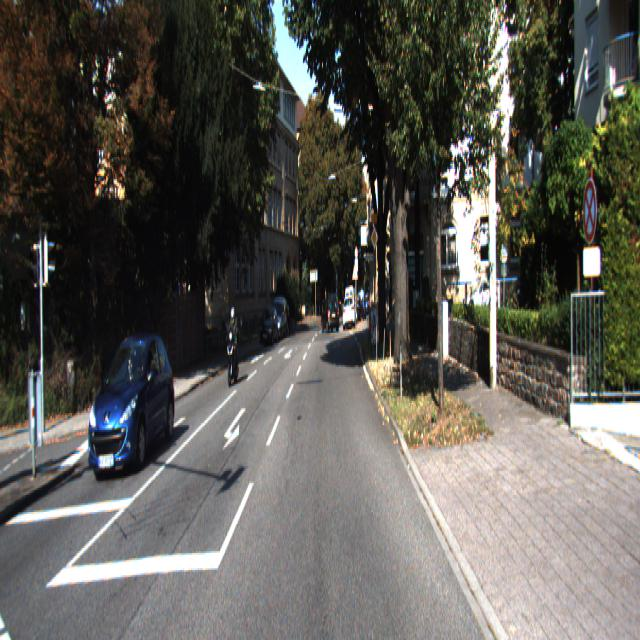Car: (86, 331, 176, 486), (225, 302, 242, 386), (268, 297, 287, 345), (258, 306, 278, 348), (321, 298, 339, 335), (342, 296, 354, 332)
